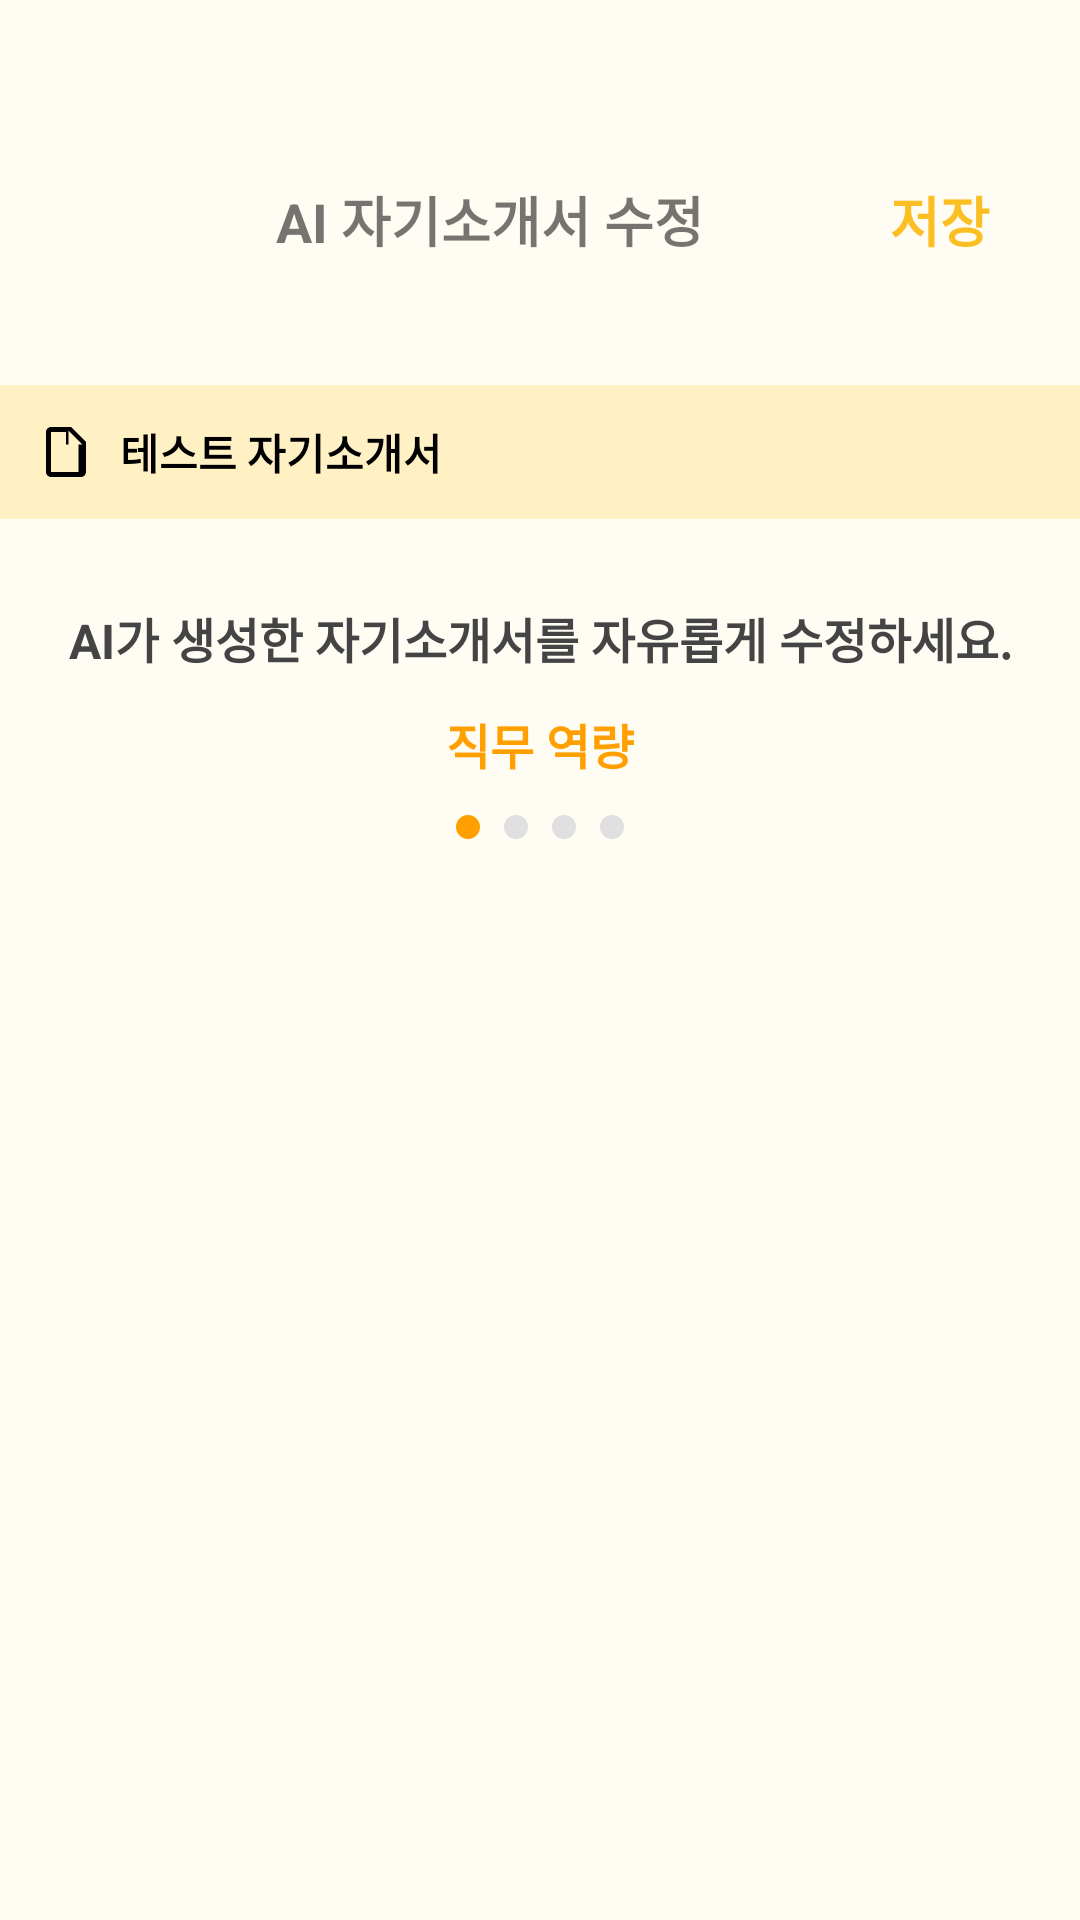

Where icons sit on this 1080px×1920px app screen, as [x1,y1,x2,y2]:
문서: [46,427,86,477]
